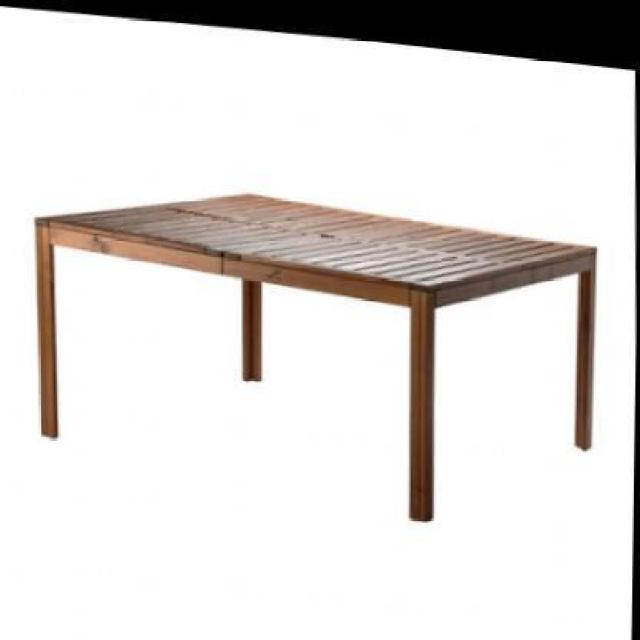tables: (32, 190, 597, 522)
